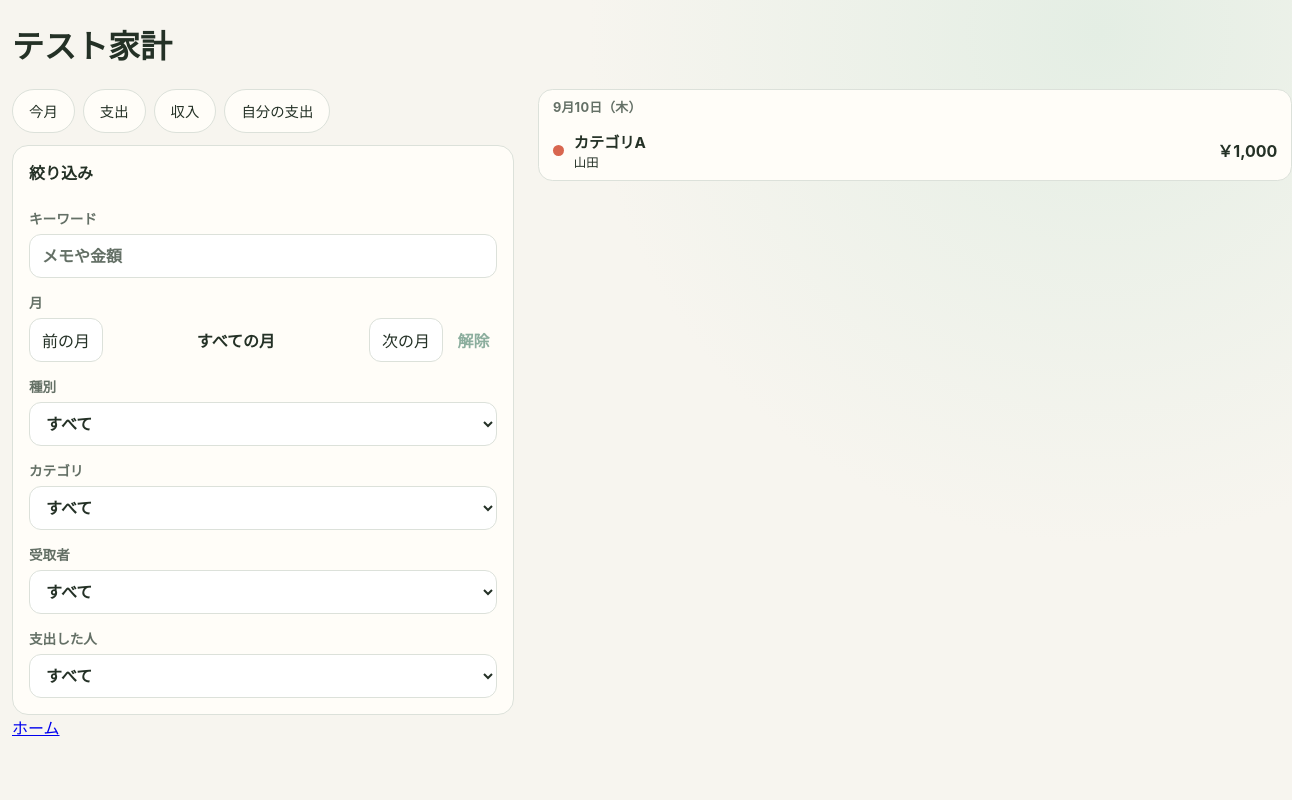
Scenario: HistoryView のURL同期と失敗時の表示 (HIS-008) › 連続して条件を変えたときは最後の条件の結果だけを表示する
Click the link "支出".
click(114, 111)  # box [83,89,146,133]
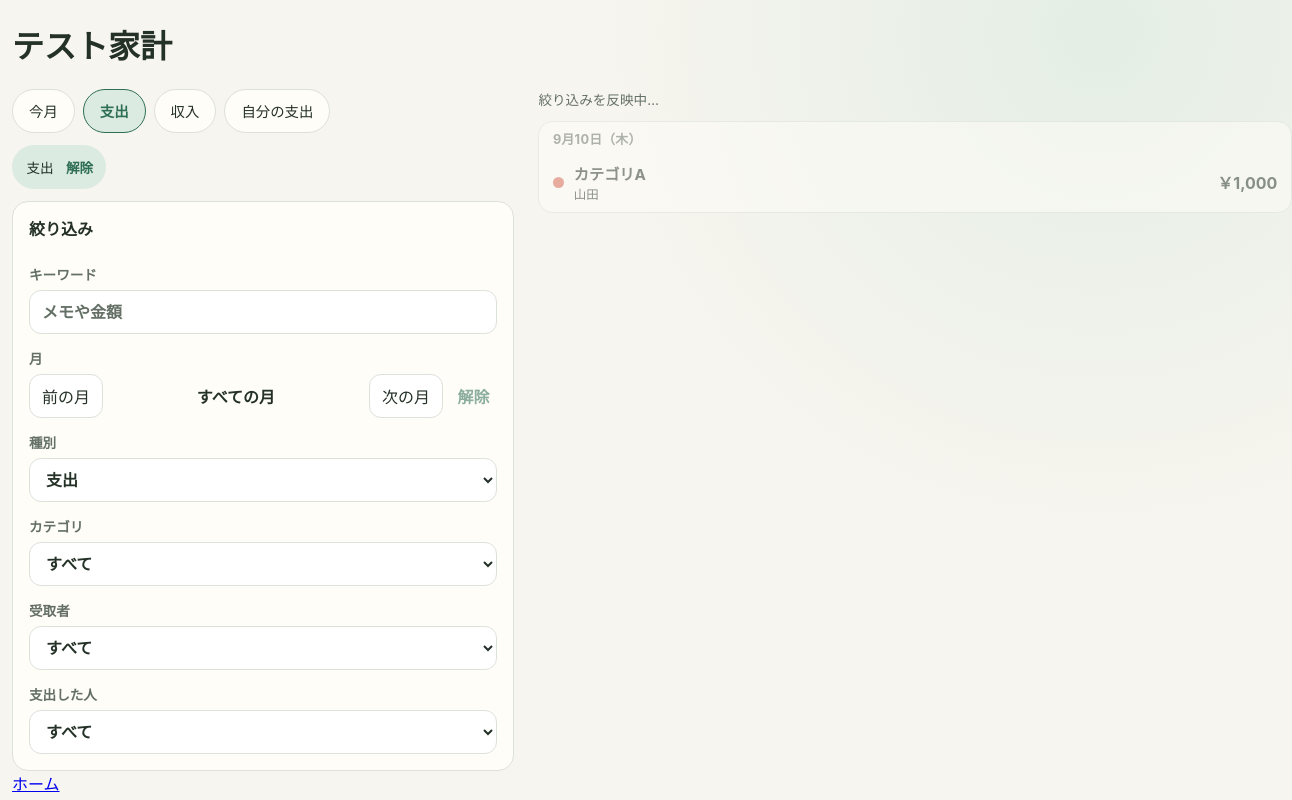
Click the link "今月".
click(43, 111)  # box [12,89,75,133]
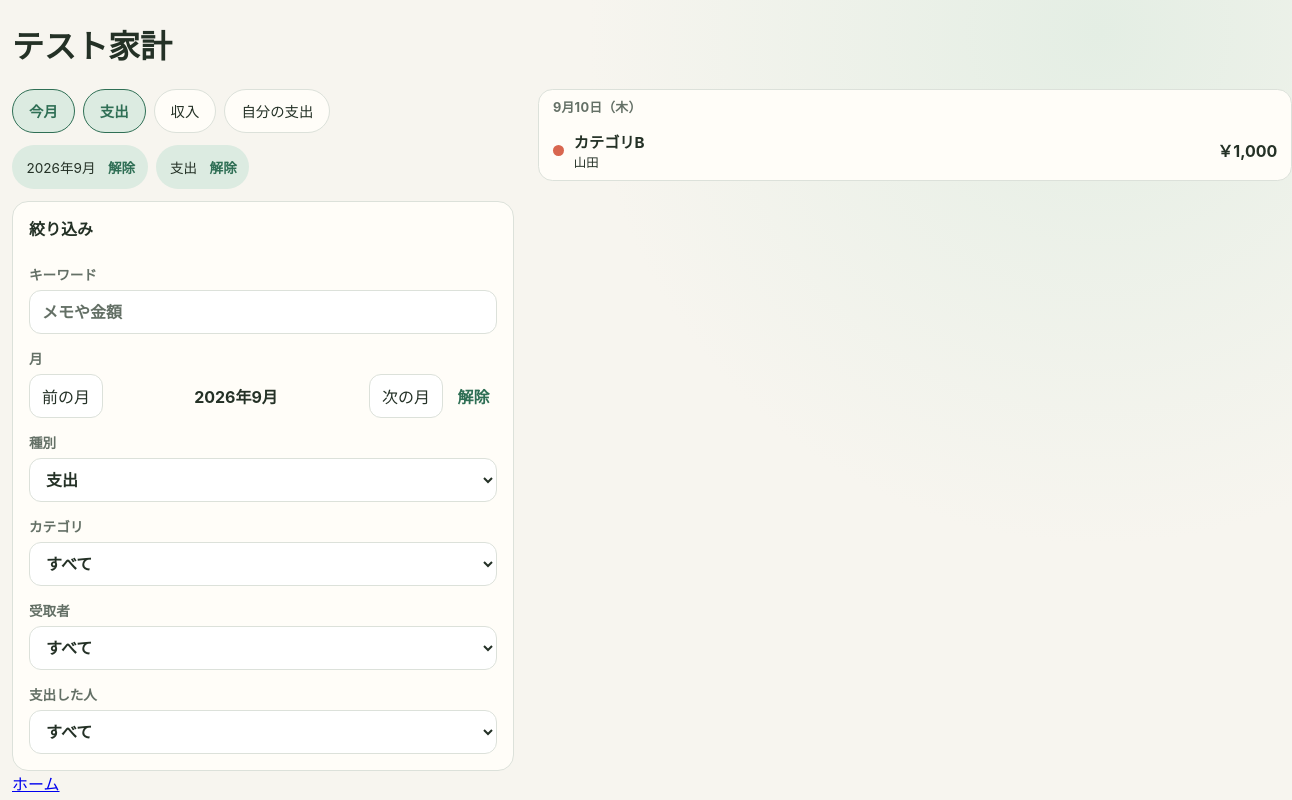
Check: the text "カテゴリB" is shown, box [574,130,645,152]
